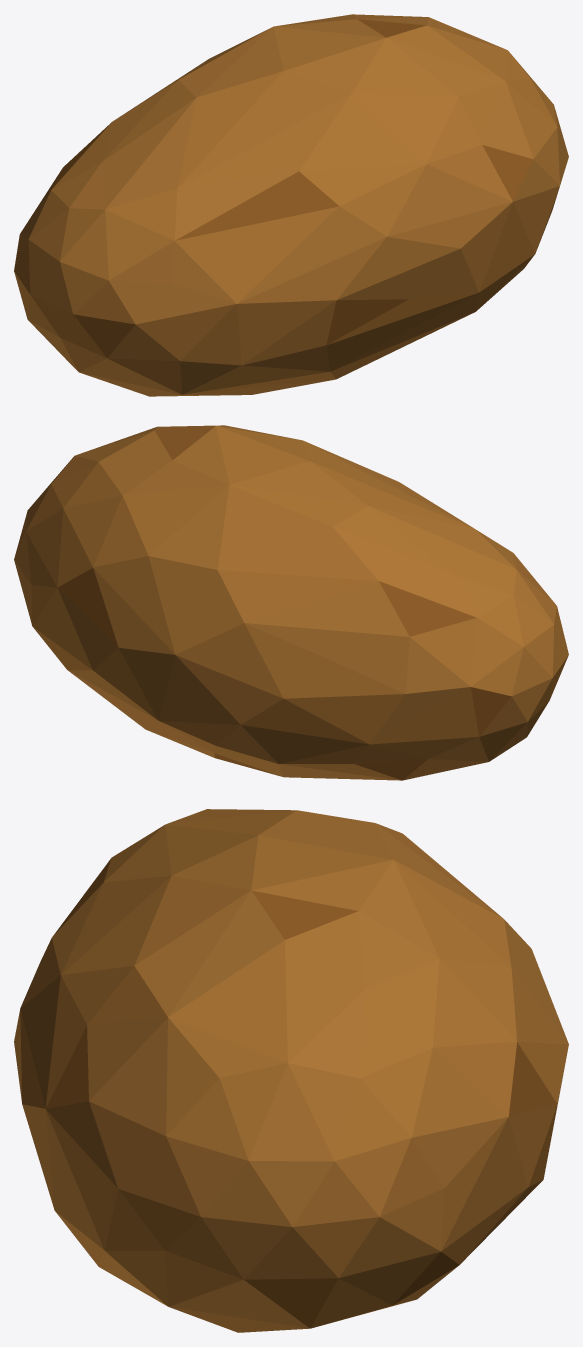
File: Potato.glb
The picture shows the model from 3 angles, top to bottom: view 1: azimuth 30°, elevation 25°; view 2: azimuth 150°, elevation 25°; view 3: azimuth 270°, elevation 25°; orthographic projection. The views are drawn at different scales.
Parts seen in each view (by area): view 1: Potato; view 2: Potato; view 3: Potato.
Part boxes in pixels (box(x1,y1,x2,y2)): Potato: box(14, 14, 568, 396); Potato: box(14, 425, 568, 780); Potato: box(14, 809, 568, 1332).
Size of the model in its own units: 0.1215 by 0.0689 by 0.0765.
